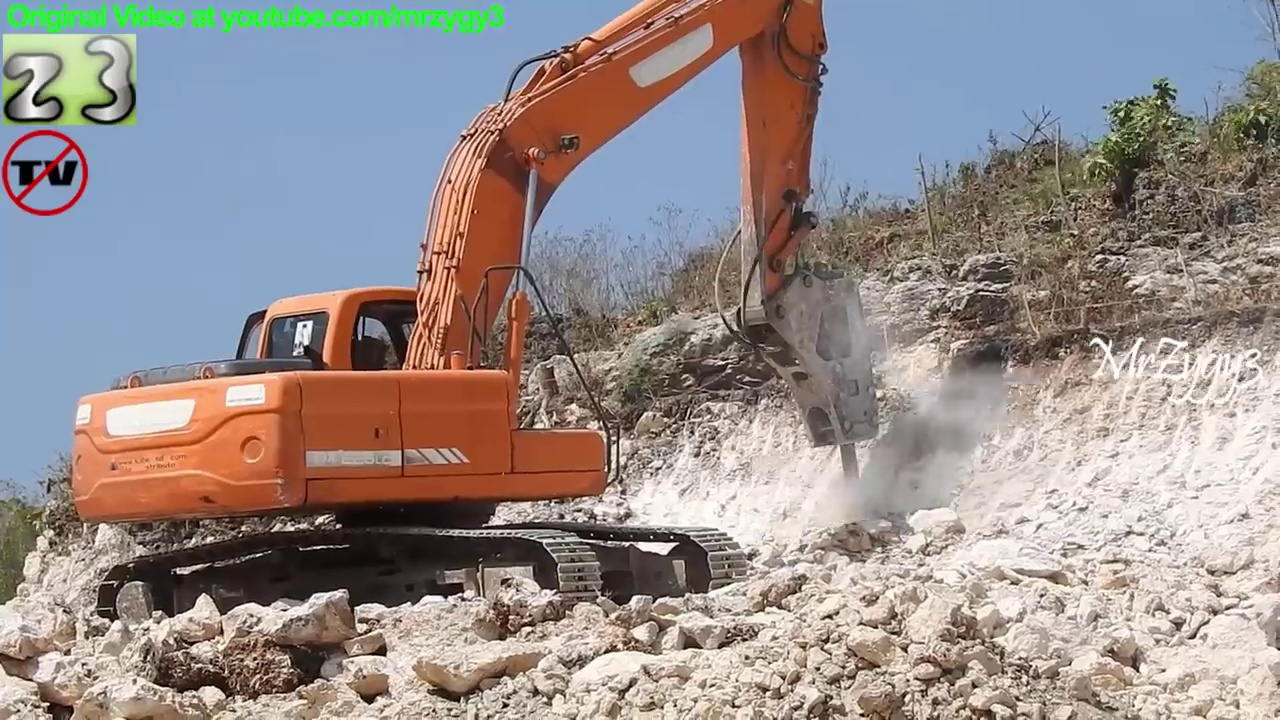excavator: (62, 1, 886, 651)
